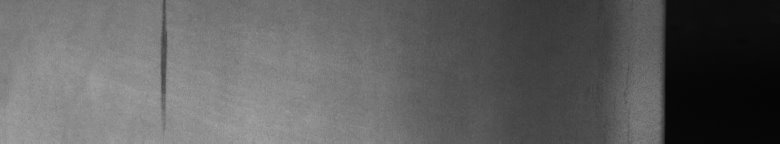hd: (153, 4, 175, 130)
